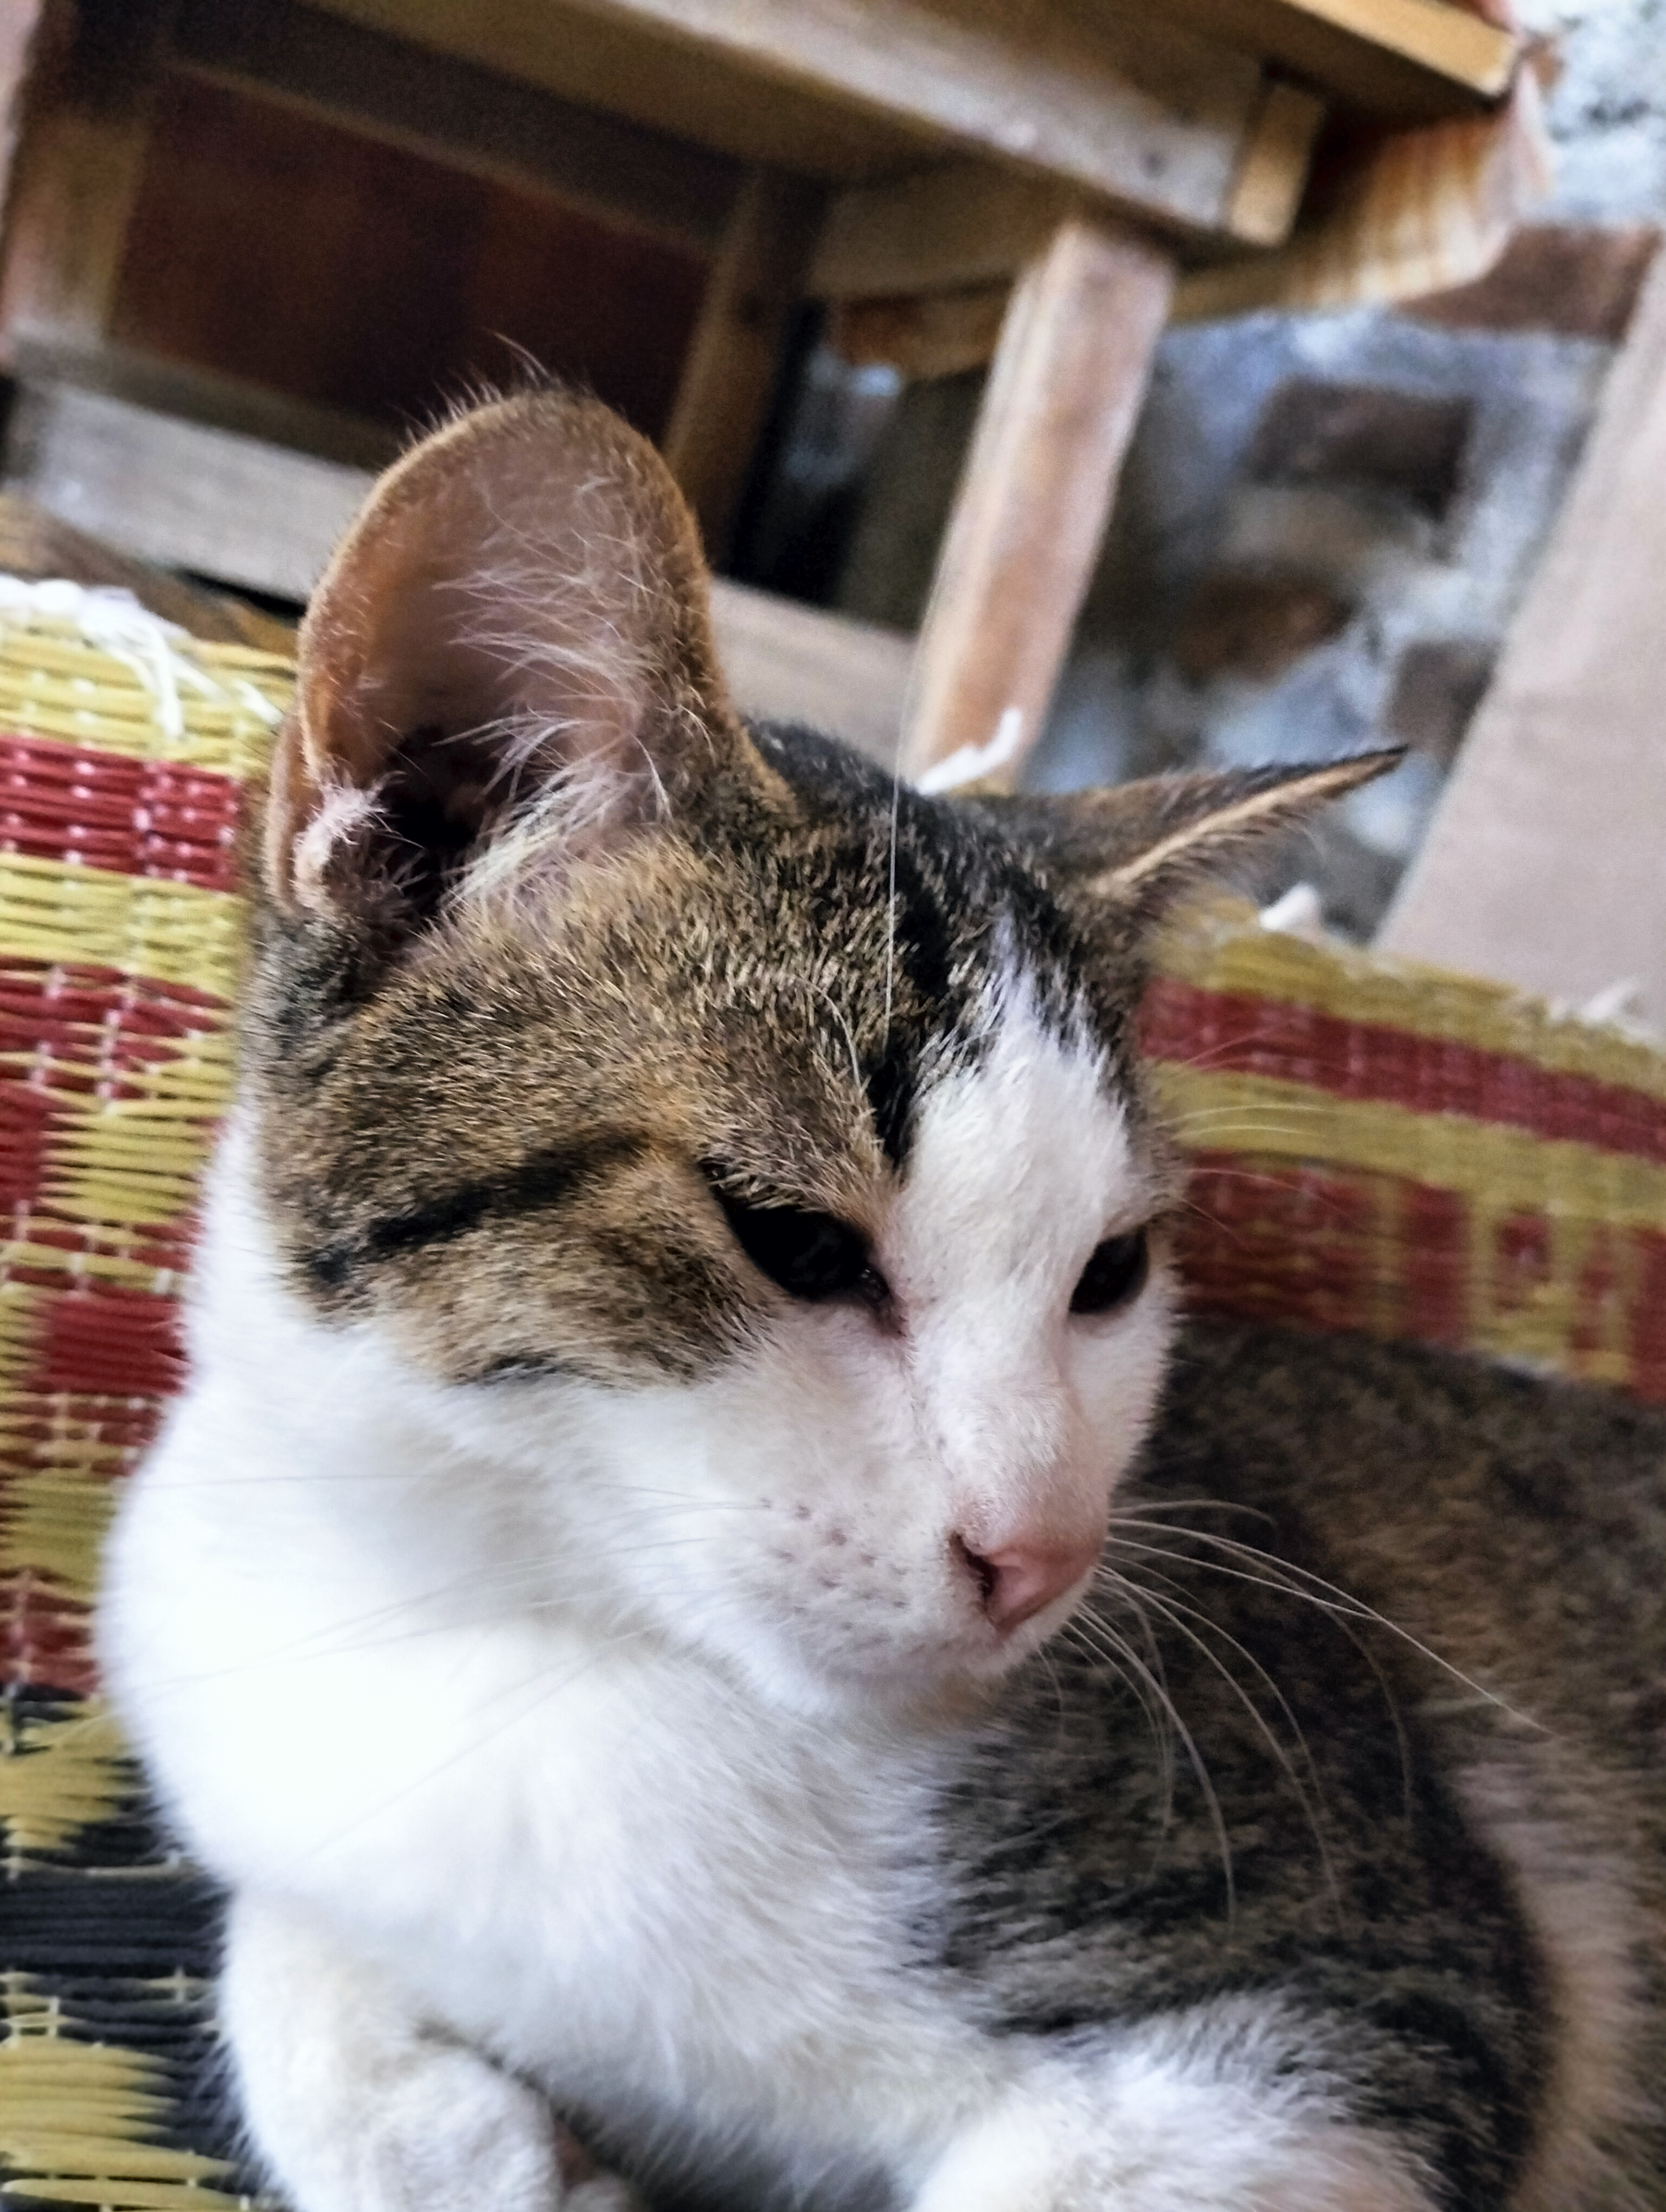miki: (150, 322, 1496, 1847)
